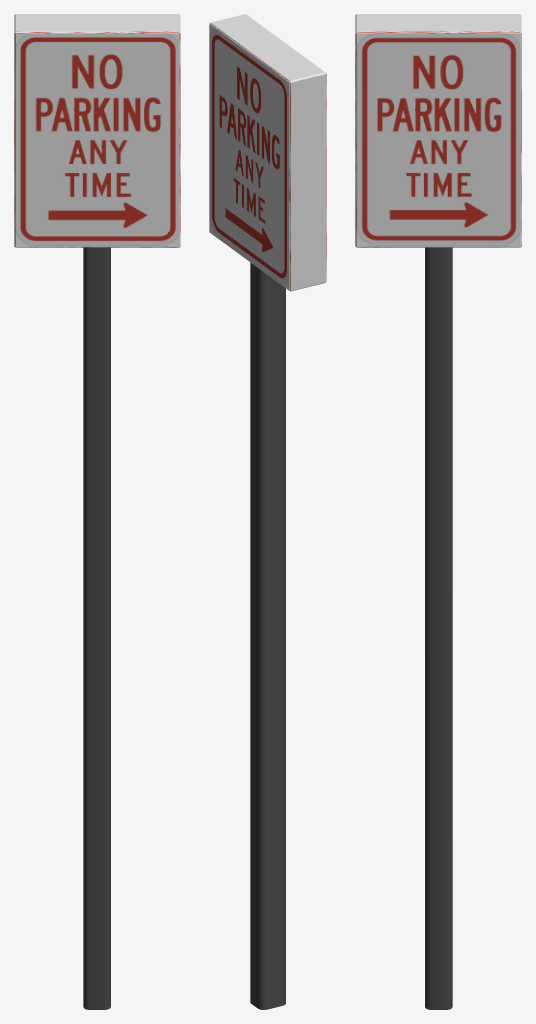
The model's file is noparking-sign.fbx.
3 renders of one model, left to right at view 1: azimuth 90°, elevation 25°; view 2: azimuth 210°, elevation 25°; view 3: azimuth 270°, elevation 25°, orthographic. The views are drawn at different scales.
Visible parts, largest first — view 1: Cube.016, Cube.007; view 2: Cube.016, Cube.007; view 3: Cube.016, Cube.007.
Boxes of the visible parts, x1=… form: Cube.016: x1=14, y1=14, x2=180, y2=247; Cube.007: x1=83, y1=247, x2=110, y2=1009; Cube.016: x1=209, y1=14, x2=326, y2=291; Cube.007: x1=250, y1=262, x2=285, y2=1009; Cube.016: x1=355, y1=14, x2=521, y2=247; Cube.007: x1=425, y1=247, x2=452, y2=1009.
Bounding box in the file's own units: 32 × 779 × 120.
3 materials, 1 textured.
